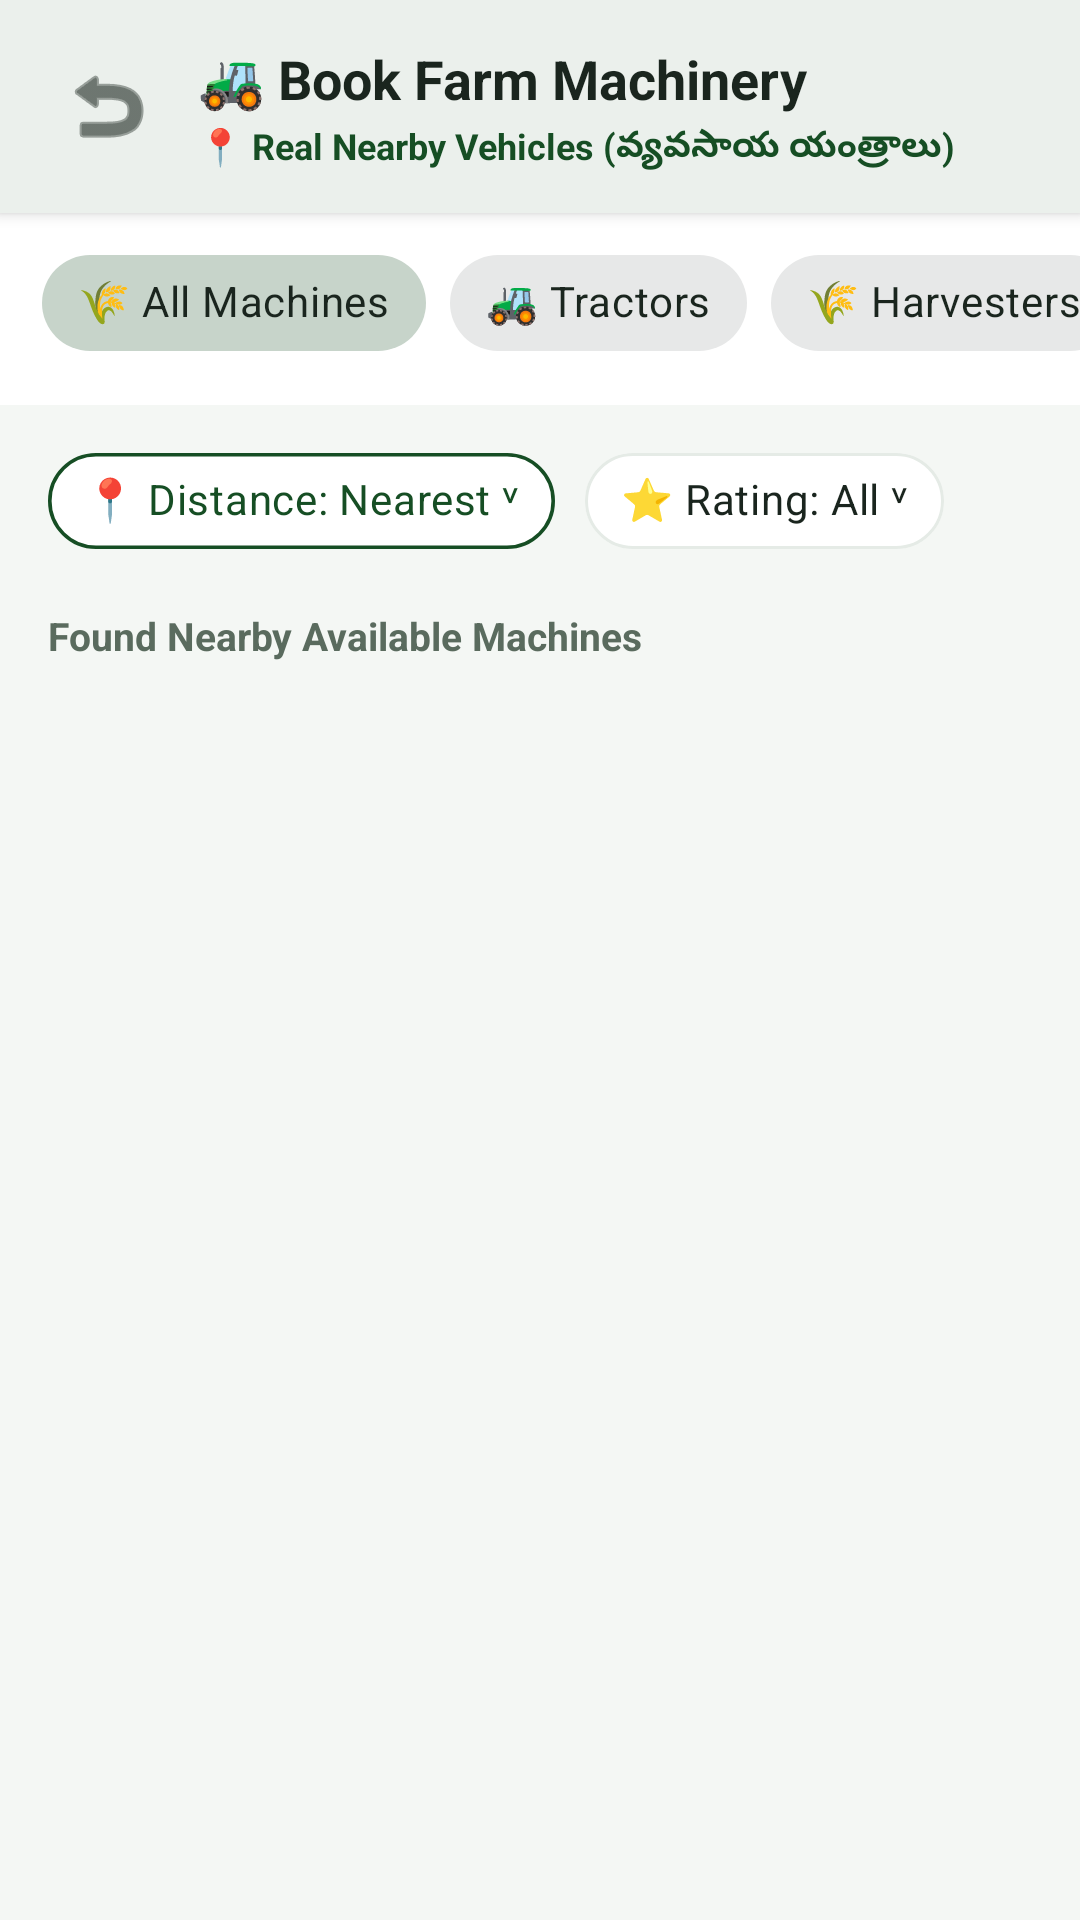

Named icons in this screenshot (1080px x 1920px) and their centers, (x=x, y=y):
revert: (x=109, y=106)
